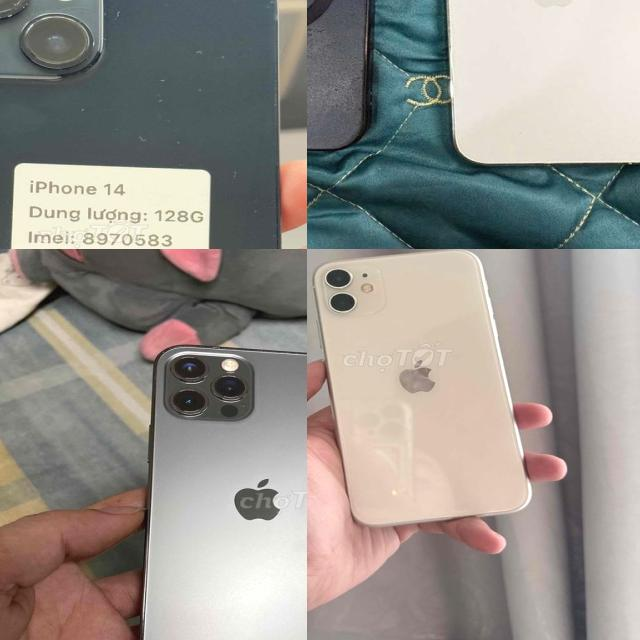gen_11: (310, 249, 538, 534)
gen_12_13: (130, 330, 307, 640), (435, 0, 640, 178)
gen_14: (0, 0, 307, 249)
